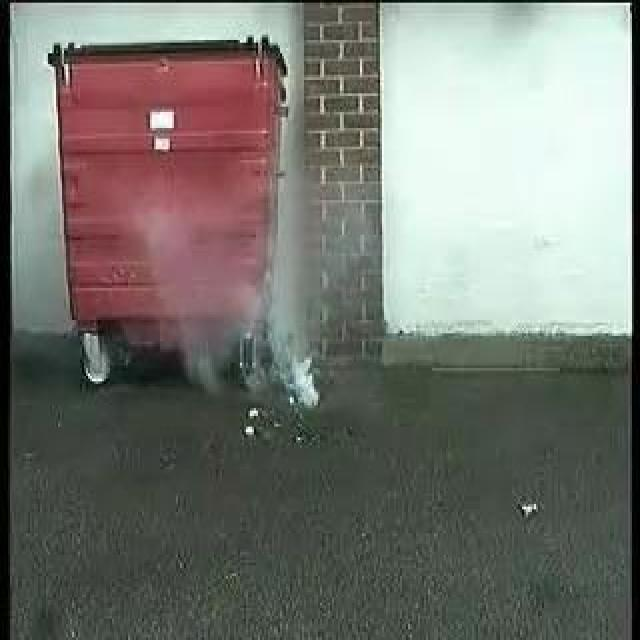Smoke: (237, 293, 321, 408)
